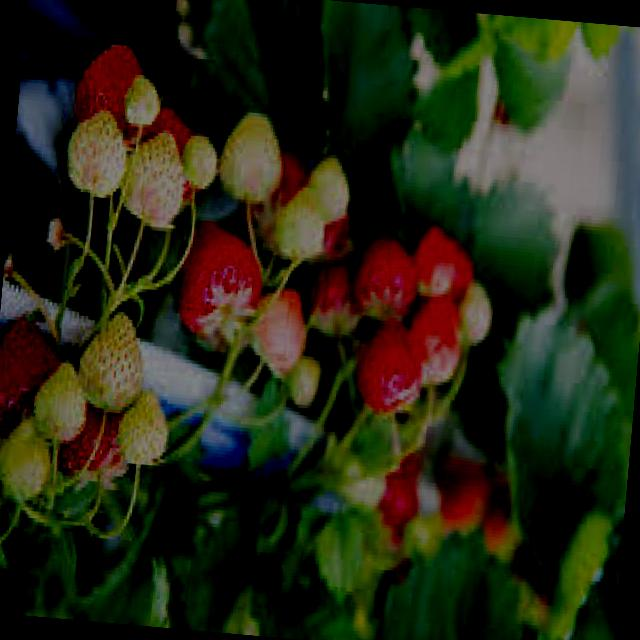Strawberry: (170, 235, 264, 348), (70, 40, 156, 149), (72, 307, 148, 413), (355, 316, 430, 417), (116, 128, 185, 235), (346, 232, 424, 326), (0, 320, 64, 429), (217, 111, 290, 206), (59, 114, 128, 202), (28, 360, 94, 445), (268, 182, 328, 262), (116, 394, 172, 468)
